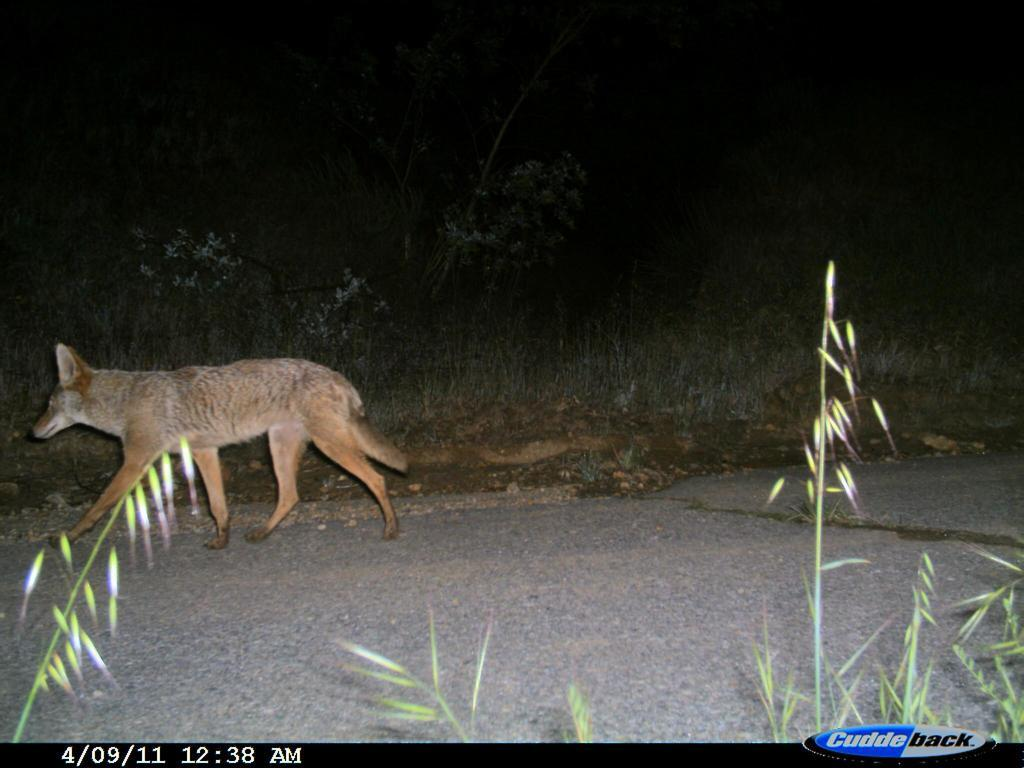coyote: (22, 332, 425, 569)
